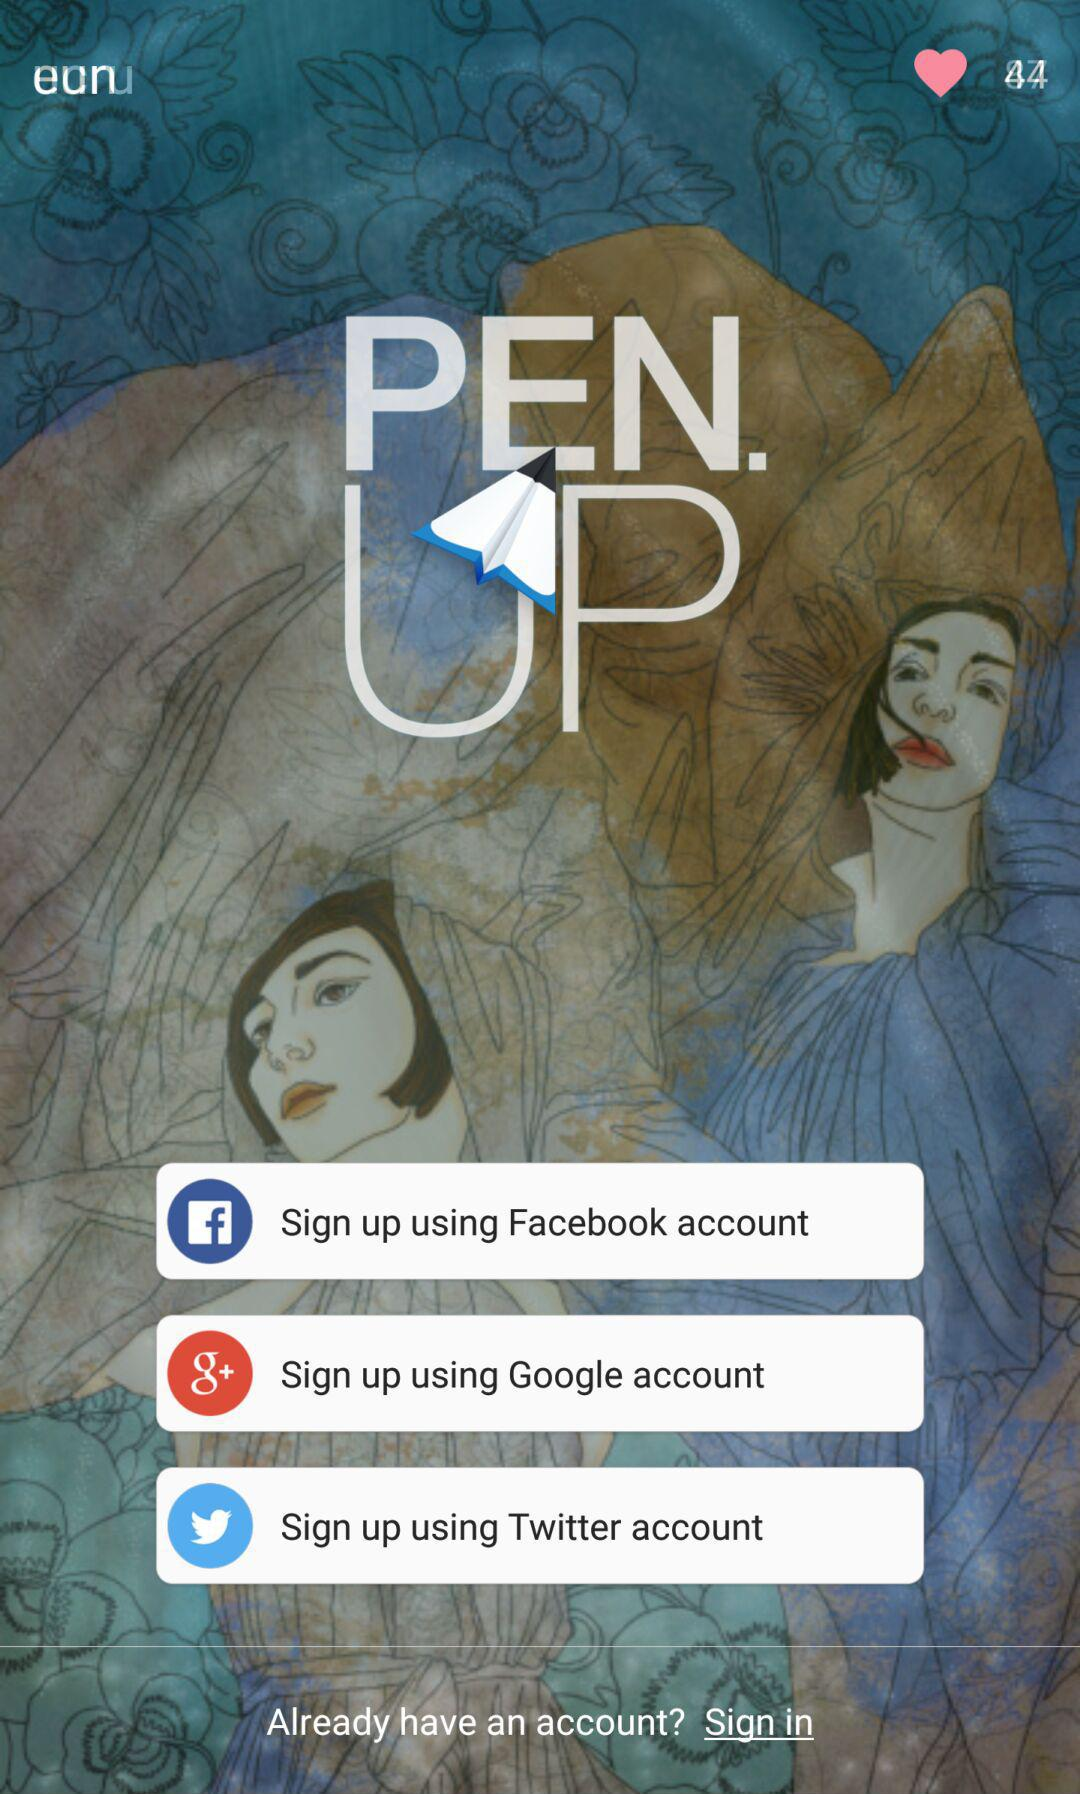BackgroundImage: (1, 1, 1080, 1794)
Image: (345, 315, 767, 739)
Text: (266, 1706, 815, 1744)
TextButton: (156, 1162, 925, 1281), (156, 1313, 925, 1433), (156, 1466, 925, 1585)
